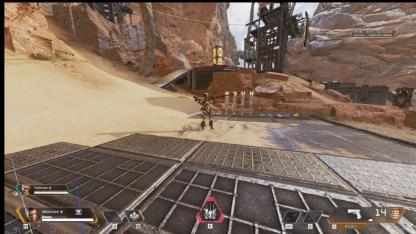Target: (200, 92, 214, 130)
